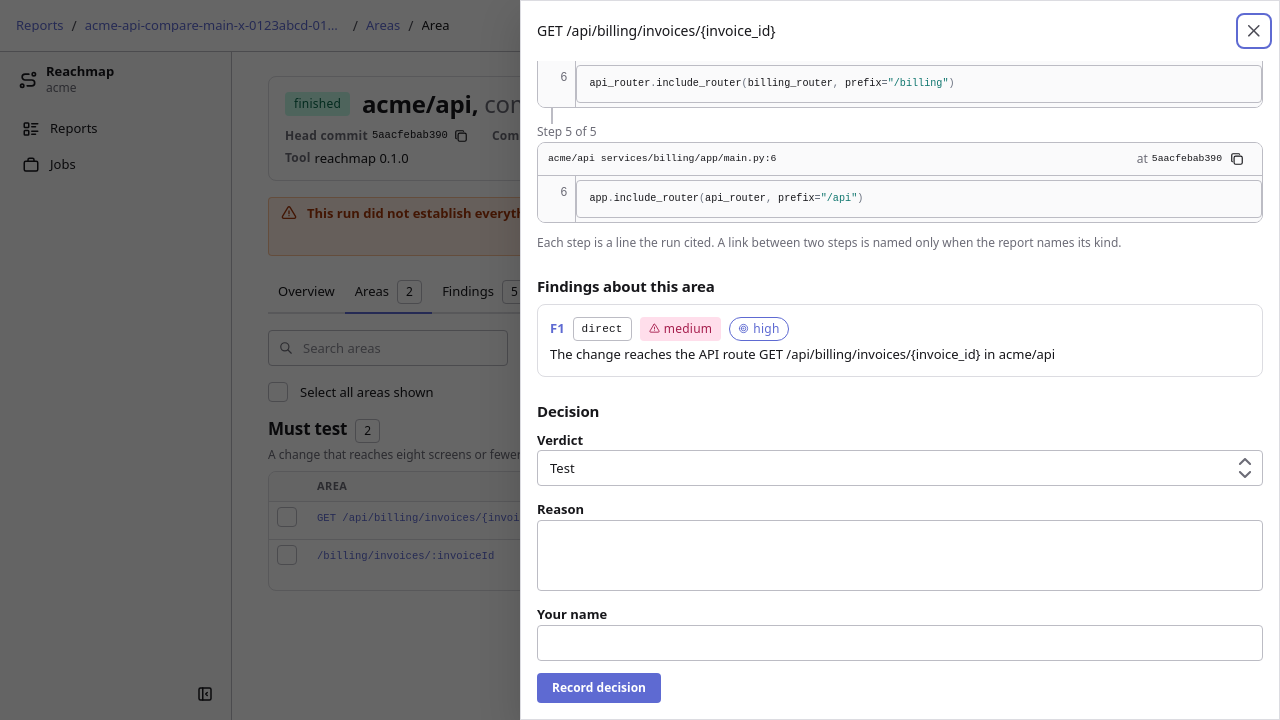
Test: recording a decision › records when the storage throws
(page scrolled)
Check: the tab "Areas 2" is shown, box [345, 272, 432, 314]
Check: the table is shown, box [269, 472, 1243, 578]
Type "Quinn" into the field labelled "Your name" at coordinates (900, 643), box [537, 625, 1263, 661]
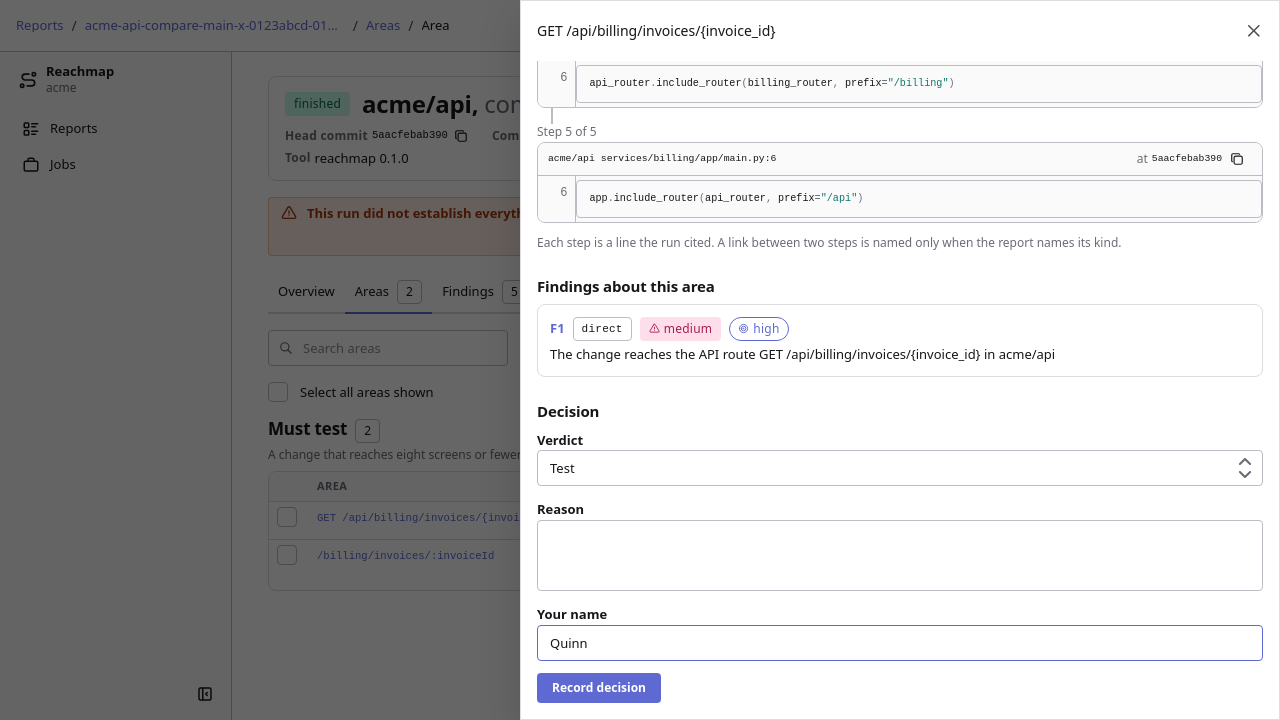
Click the button "Record decision" at coordinates (599, 688), box [537, 673, 661, 703]
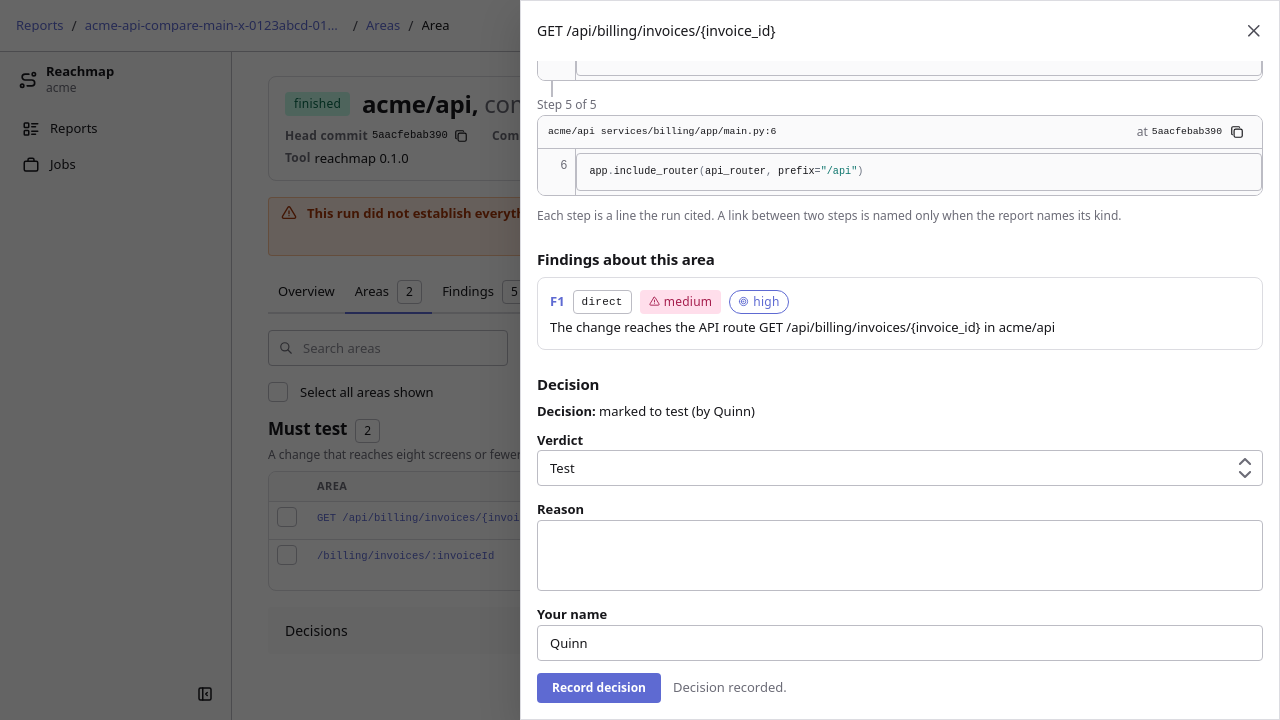
Check: the text "Decision recorded." is shown, box [673, 678, 787, 697]
